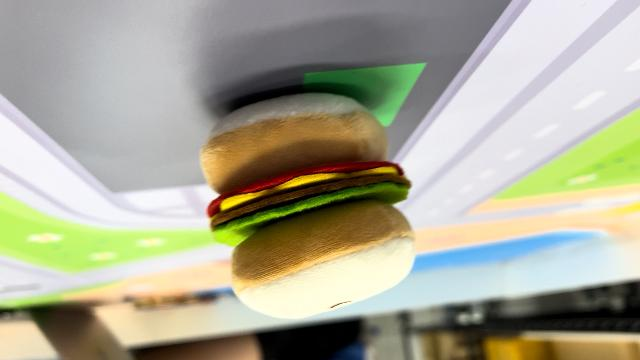sandwich: (195, 89, 418, 319)
